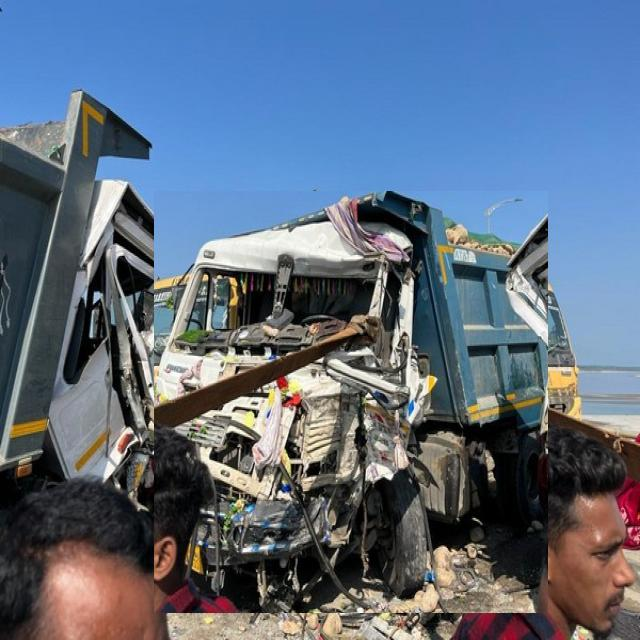accident: (155, 192, 548, 613)
